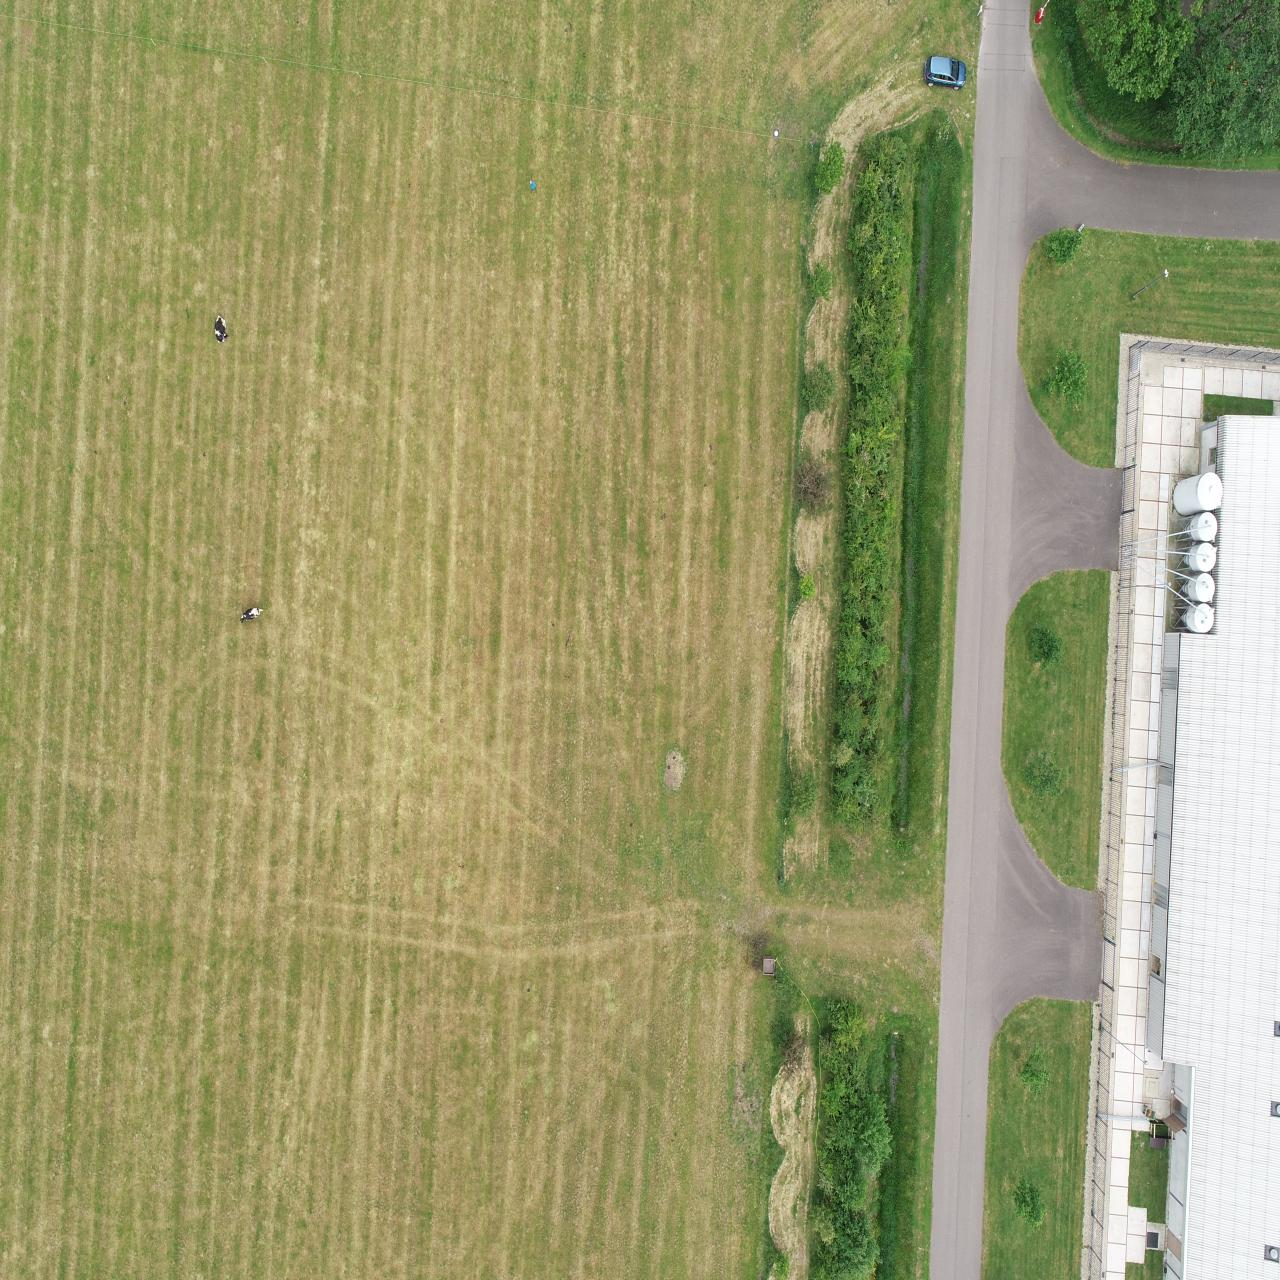cow: (213, 312, 230, 346), (239, 604, 266, 624)
